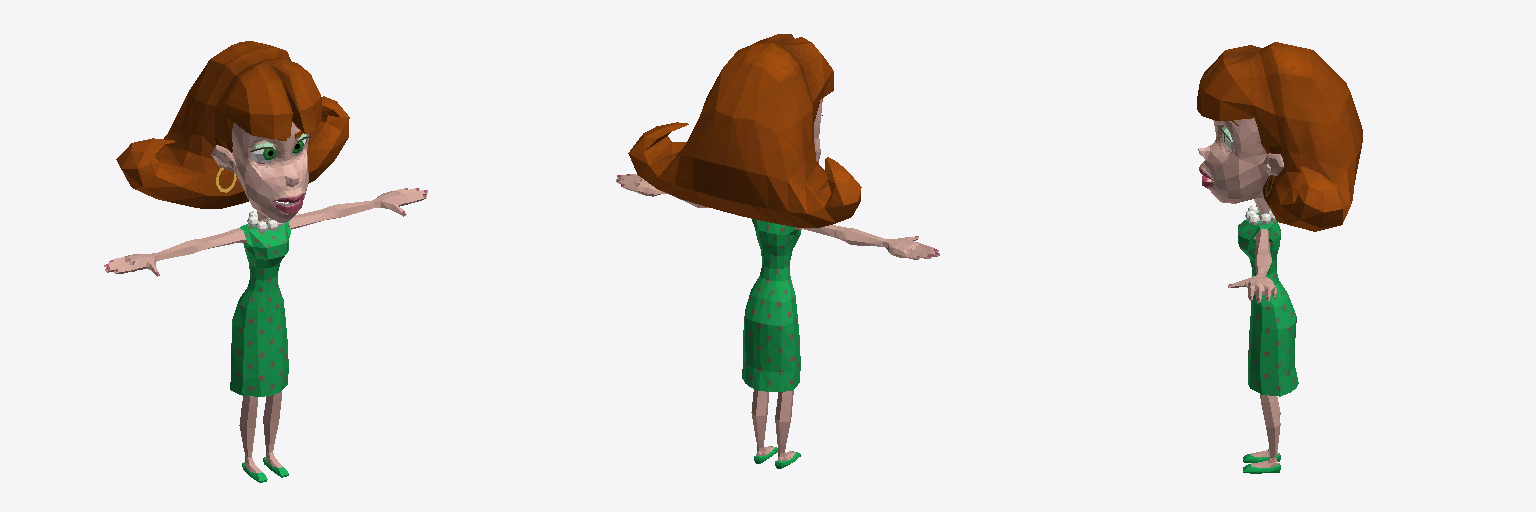
3 renders of one model, left to right at view 1: azimuth 30°, elevation 25°; view 2: azimuth 150°, elevation 25°; view 3: azimuth 270°, elevation 25°, orthographic.
Parts seen in each view (by area): view 1: Material_#112; view 2: Material_#112; view 3: Material_#112.
Boxes of the visible parts, x1,y1,x2,y2 form: Material_#112: [104, 41, 427, 482]; Material_#112: [616, 34, 939, 468]; Material_#112: [1197, 42, 1362, 473].
Bounding box in the file's own units: 14.52 × 18.03 × 6.49.
Materials: 2 (2 with a texture image).